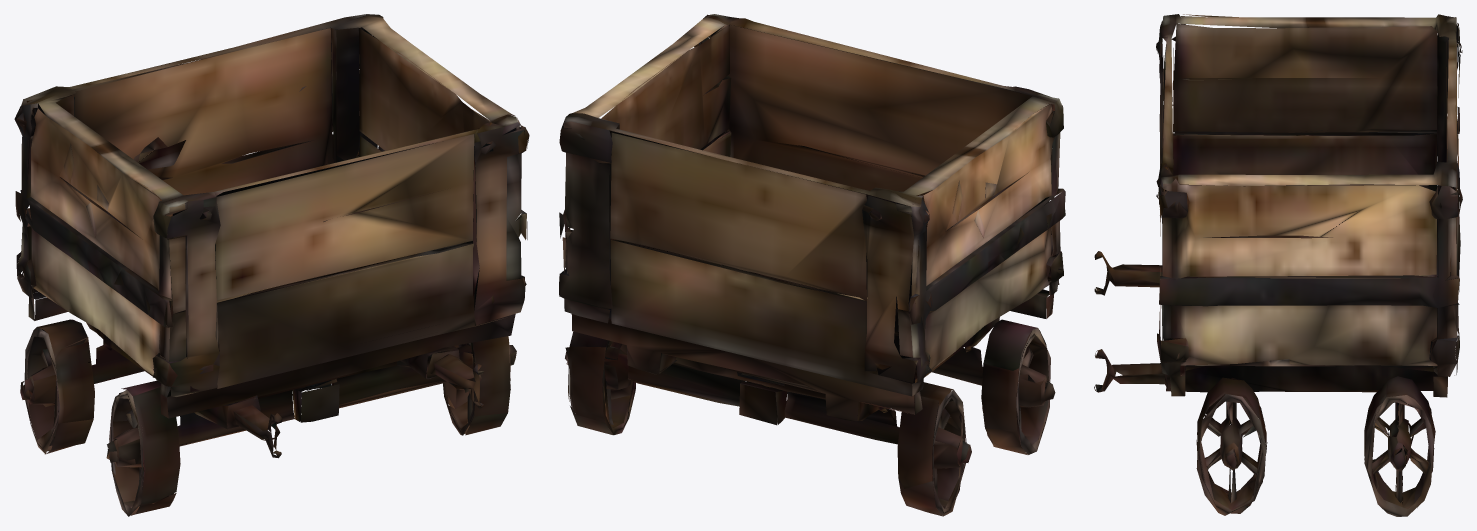
Rendered from vagoneta_madera.movil.glb.
3 views of the same model, side by side, from view 1: azimuth 30°, elevation 25°; view 2: azimuth 150°, elevation 25°; view 3: azimuth 270°, elevation 25° (orthographic).
Visible parts, largest first — view 1: geometry_0; view 2: geometry_0; view 3: geometry_0.
Part boxes in pixels (x1=…): geometry_0: x1=14, y1=14, x2=529, y2=516; geometry_0: x1=559, y1=14, x2=1065, y2=516; geometry_0: x1=1094, y1=14, x2=1462, y2=516.
Size of the model in its own units: 1.33 by 1.05 by 1.05.
1 material, 1 textured.
